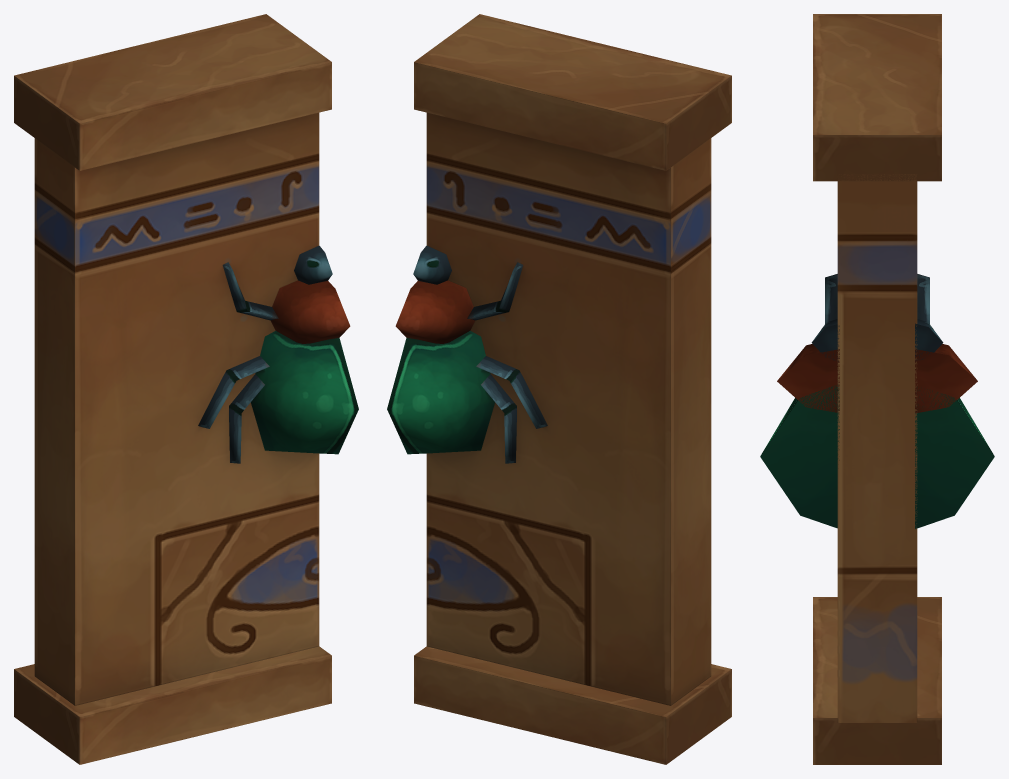
File: td_door_01_left.fbx
The picture shows the model from 3 angles, left to right: view 1: azimuth 30°, elevation 25°; view 2: azimuth 150°, elevation 25°; view 3: azimuth 270°, elevation 25°; orthographic projection.
Visible parts, largest first — view 1: td_door_01_left; view 2: td_door_01_left; view 3: td_door_01_left.
Part boxes in pixels (x1,y1,x2,y2): td_door_01_left: [14, 14, 358, 764]; td_door_01_left: [387, 14, 731, 764]; td_door_01_left: [760, 14, 994, 764].
Size of what is drawn, in the model's own units: 1 by 2.43 by 0.8225.
